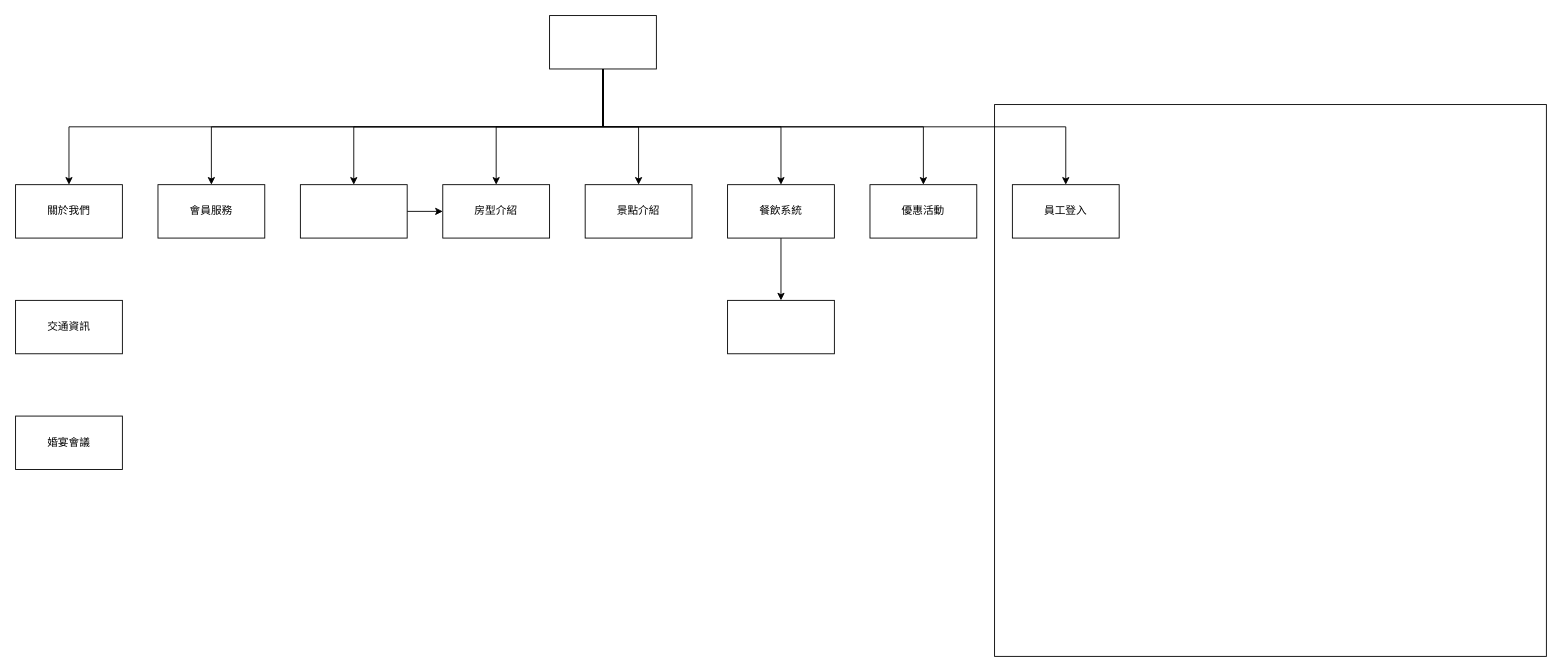
This 1562x672 diagram has some shape labels left out. The shapes that lost their labels are listed below. From the top down, each one's box as (x1, y1, x2, y2) in pixels, then its label:
(549, 15, 656, 69): 飯店
(299, 184, 407, 238): 訂房系統
(727, 299, 834, 354): 客房服務
(994, 104, 1546, 656): 員工相關功能
